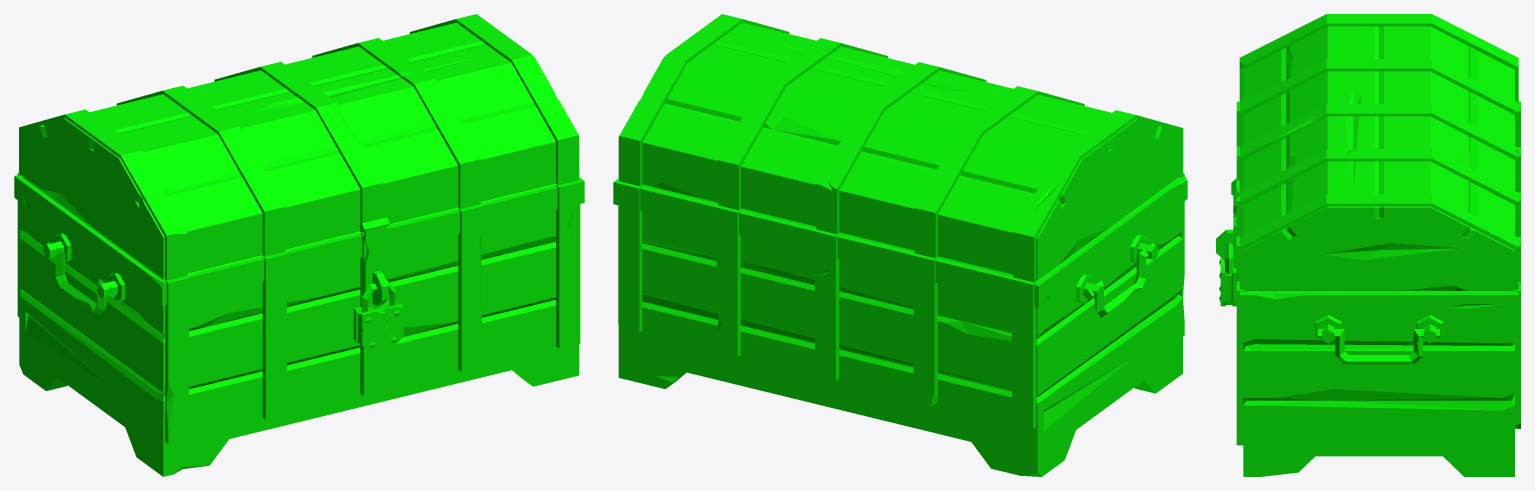
The model's file is SM_Chest_Wooden_Round_Small_Fantasy.fbx.
The picture shows the model from 3 angles, left to right: view 1: azimuth 30°, elevation 25°; view 2: azimuth 150°, elevation 25°; view 3: azimuth 270°, elevation 25°; orthographic projection. The views are drawn at different scales.
Parts seen in each view (by area): view 1: chest-wooden-round-small-base-fantasy, chest-wooden-round-small-lid-fantasy, chest-wooden-round-small-lock-fantasy; view 2: chest-wooden-round-small-base-fantasy, chest-wooden-round-small-lid-fantasy; view 3: chest-wooden-round-small-lid-fantasy, chest-wooden-round-small-base-fantasy, chest-wooden-round-small-lock-fantasy.
Boxes of the visible parts, box(x1,y1,x2,y2) form: chest-wooden-round-small-base-fantasy: box(14, 172, 584, 476); chest-wooden-round-small-lid-fantasy: box(19, 14, 579, 308); chest-wooden-round-small-lock-fantasy: box(353, 280, 403, 353); chest-wooden-round-small-base-fantasy: box(613, 173, 1187, 476); chest-wooden-round-small-lid-fantasy: box(618, 14, 1183, 282); chest-wooden-round-small-lid-fantasy: box(1231, 14, 1518, 290); chest-wooden-round-small-base-fantasy: box(1216, 101, 1520, 476); chest-wooden-round-small-lock-fantasy: box(1219, 242, 1236, 306).
Bounding box in the file's own units: 1.08 × 0.6634 × 0.6733.
